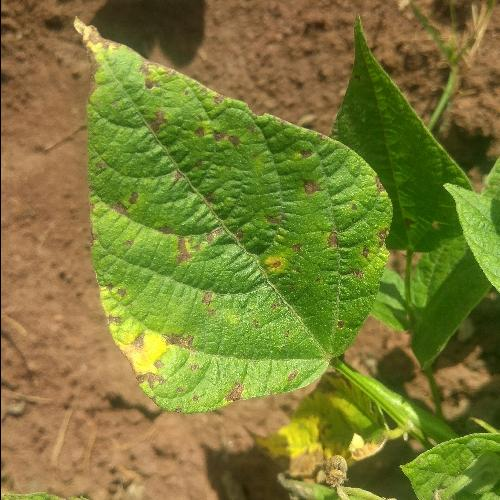hawar: (324, 166, 404, 298), (193, 88, 247, 154), (154, 224, 221, 272), (70, 2, 109, 58), (230, 213, 280, 255), (112, 184, 139, 226), (137, 64, 168, 100), (161, 332, 194, 365), (293, 177, 328, 202), (214, 380, 248, 405), (284, 232, 308, 264), (200, 282, 222, 312), (280, 364, 301, 388), (148, 112, 168, 134), (330, 316, 346, 332)
